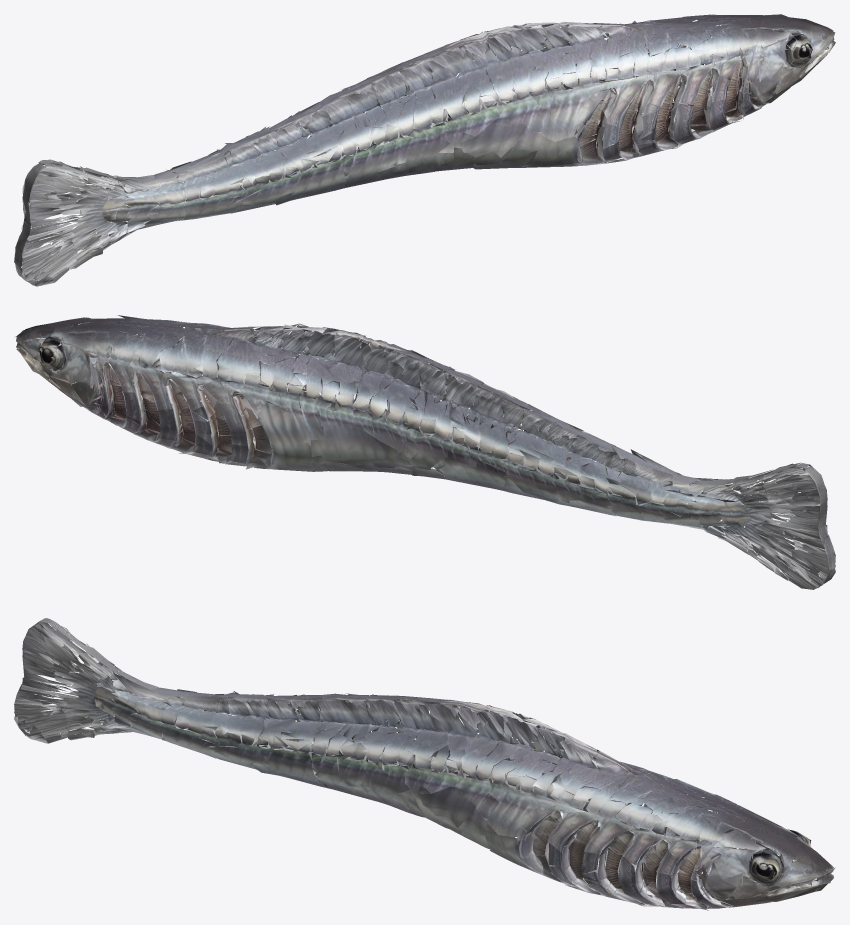
Rendered from haikouichthys.glb.
The picture shows the model from 3 angles, top to bottom: view 1: azimuth 30°, elevation 25°; view 2: azimuth 150°, elevation 25°; view 3: azimuth 330°, elevation 25°; orthographic projection.
Visible parts, largest first — view 1: Mesh_0; view 2: Mesh_0; view 3: Mesh_0.
Part boxes in pixels (bbox=[...]): Mesh_0: bbox=[14, 14, 835, 286]; Mesh_0: bbox=[14, 315, 835, 589]; Mesh_0: bbox=[14, 618, 835, 910].
Bounding box in the file's own units: 1 × 0.1776 × 0.1284.
1 material, 1 textured.
